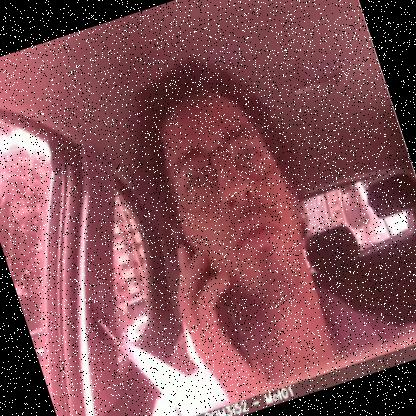phone: (161, 210, 264, 378)
